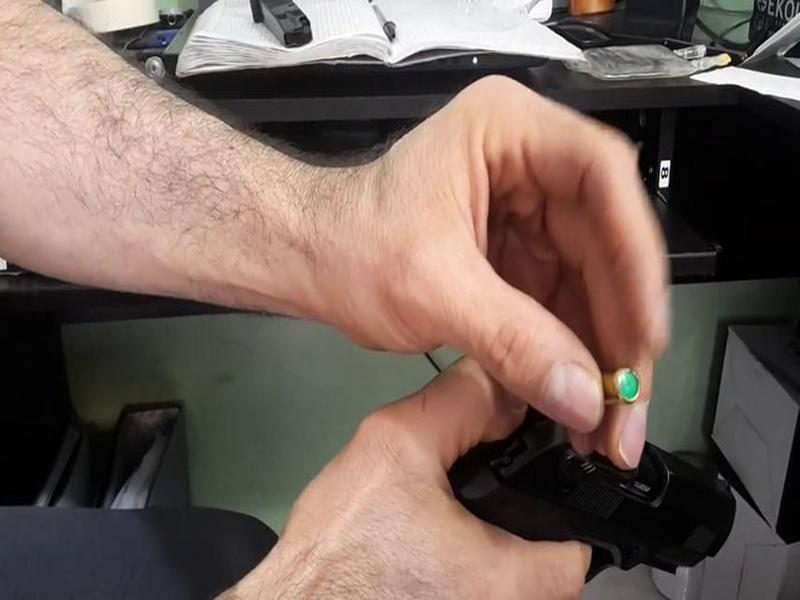Pistola: (424, 363, 747, 582)
